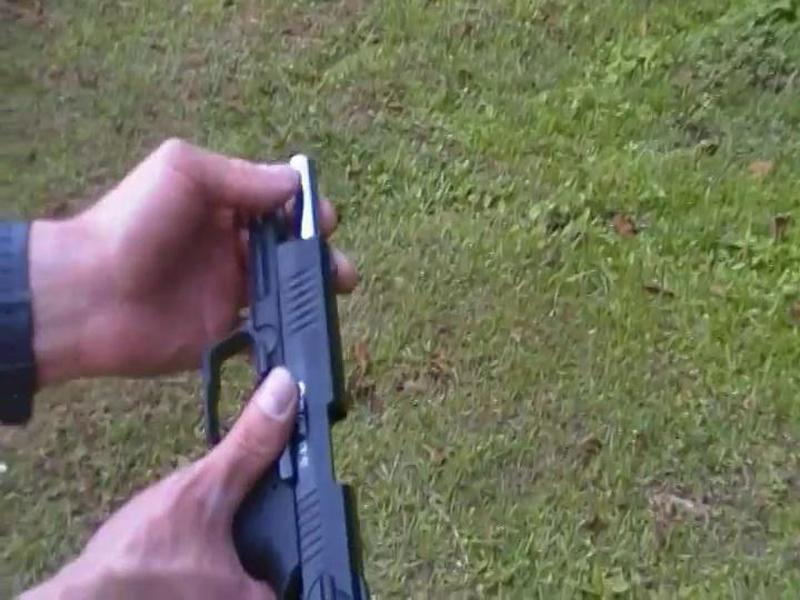Pistola: (141, 149, 402, 600)
